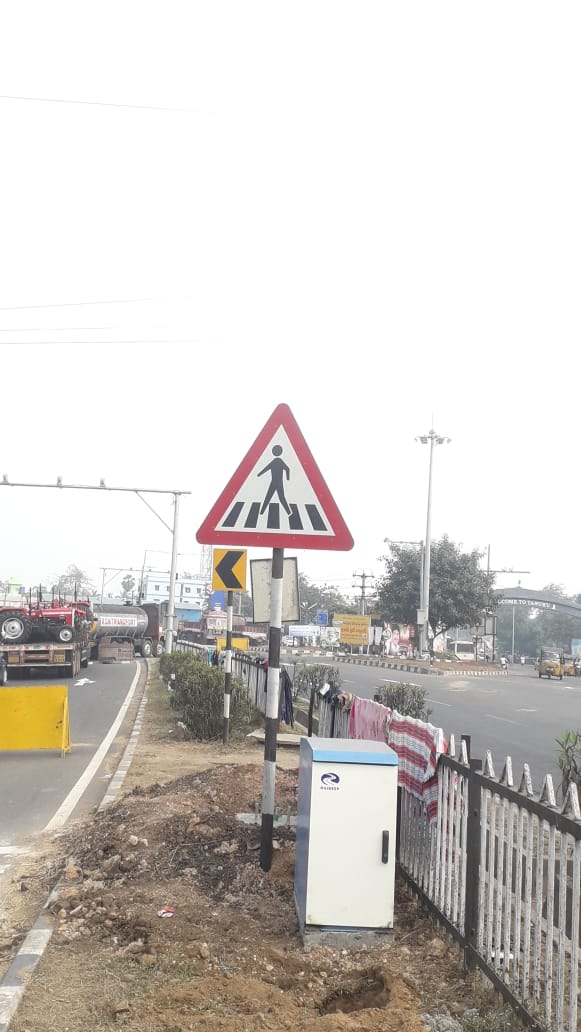pedestrian crossing: (188, 385, 371, 568)
